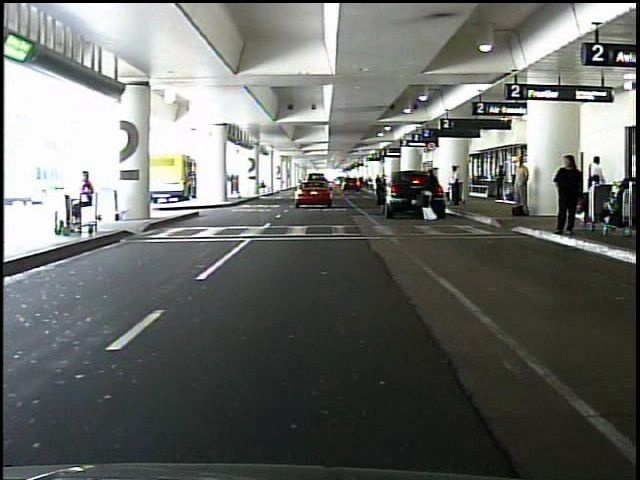person: (551, 151, 583, 242), (58, 167, 96, 233), (584, 155, 604, 212), (424, 166, 439, 223), (449, 164, 464, 208), (494, 162, 506, 201)
